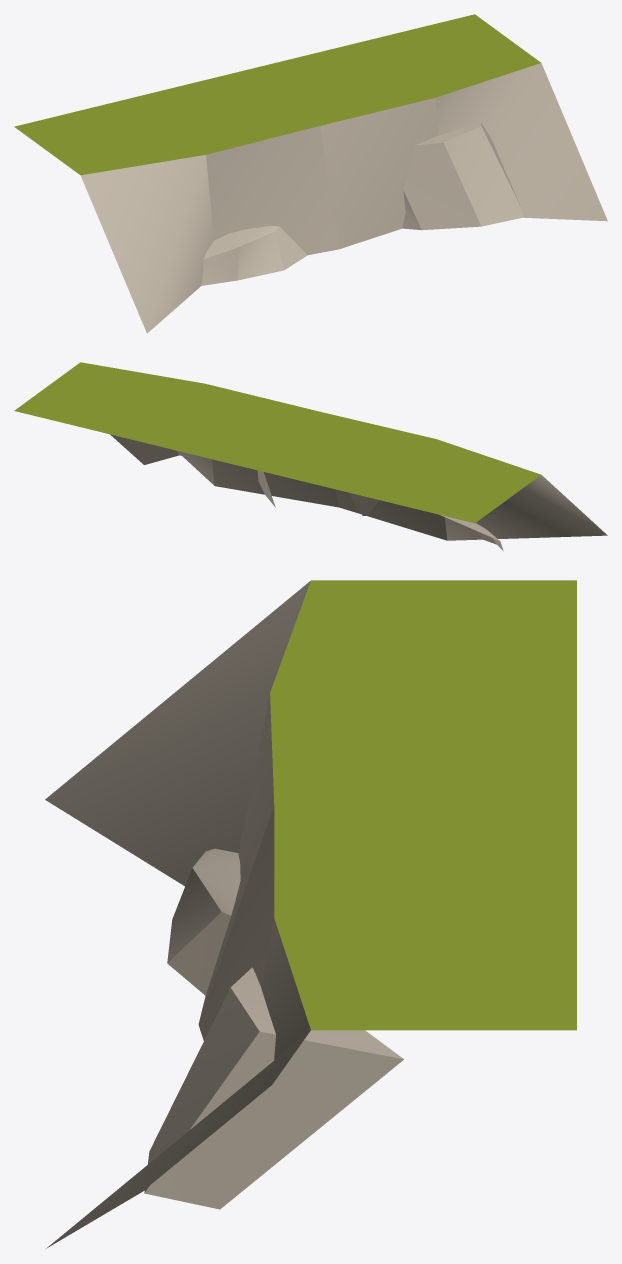
Rendered from Grid_Cell_Water_E.DAE.
The picture shows the model from 3 angles, top to bottom: view 1: azimuth 30°, elevation 25°; view 2: azimuth 150°, elevation 25°; view 3: azimuth 270°, elevation 25°; orthographic projection. The views are drawn at different scales.
Parts seen in each view (by area): view 1: Bank5; view 2: Bank5; view 3: Bank5.
Part boxes in pixels (<box>): Bank5: <box>14,14,607,333</box>; Bank5: <box>14,362,607,550</box>; Bank5: <box>45,580,576,1248</box>.
Size of the model in its own units: 1 by 0.2273 by 0.5.
